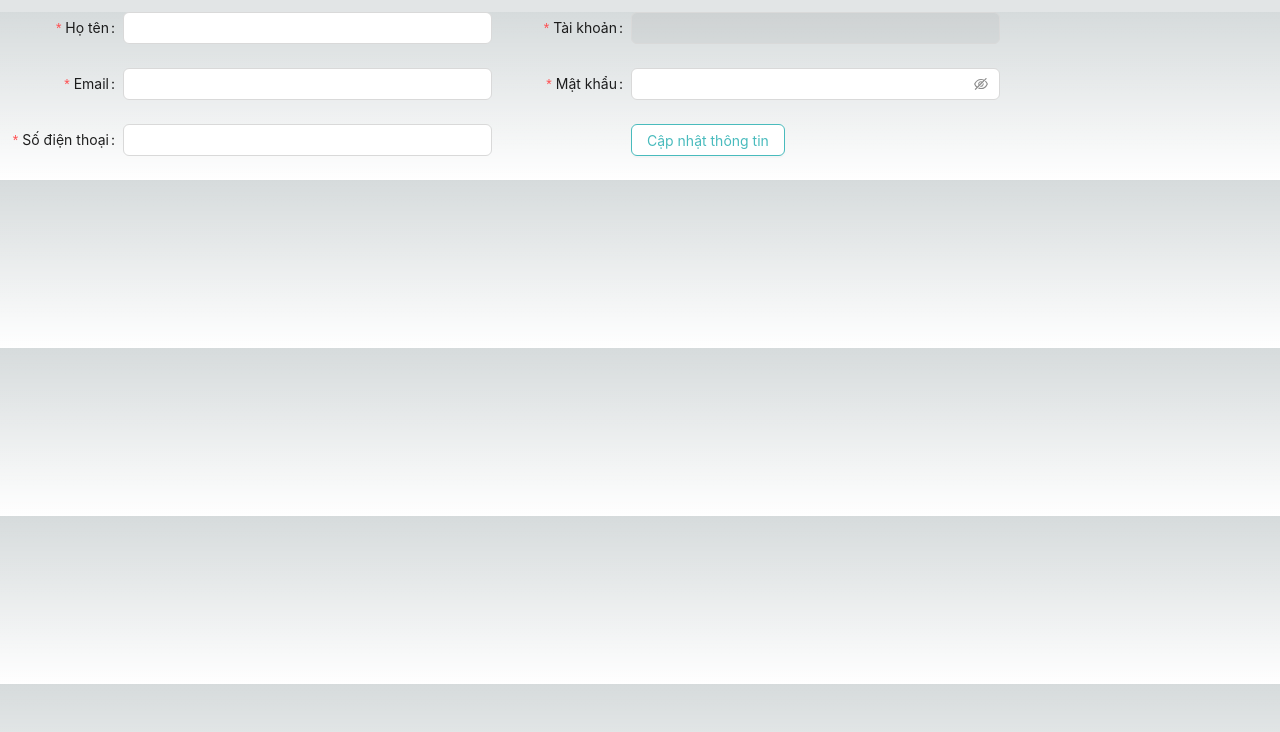
UserProfile Page › check empty profile
Click the button "Cập nhật thông tin". click: (708, 140)
box: x1=631 y1=124 x2=785 y2=156
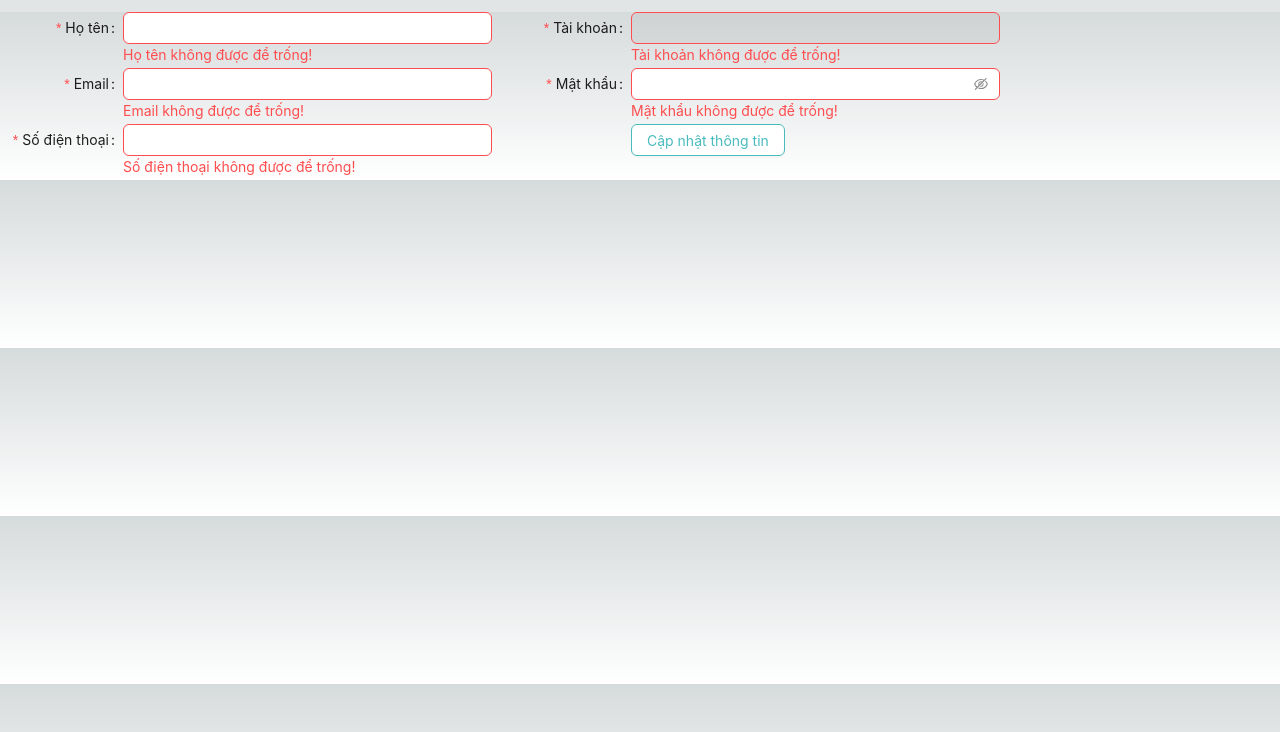
Now the text "Họ tên không được để trống!" is shown, box x1=123 y1=46 x2=312 y2=63
Now the text "Email không được để trống!" is shown, box x1=123 y1=102 x2=304 y2=119
Now the text "Số điện thoại không được để trống!" is shown, box x1=123 y1=158 x2=356 y2=175
